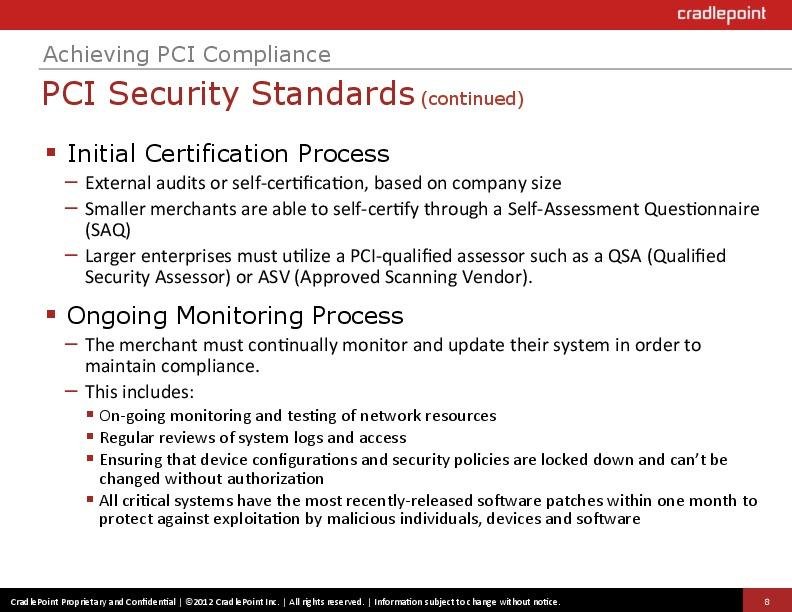paragraph: (57, 335, 776, 538), (38, 171, 792, 293)
subtitle: (65, 298, 418, 333), (61, 136, 405, 171)
title: (35, 33, 557, 121)
